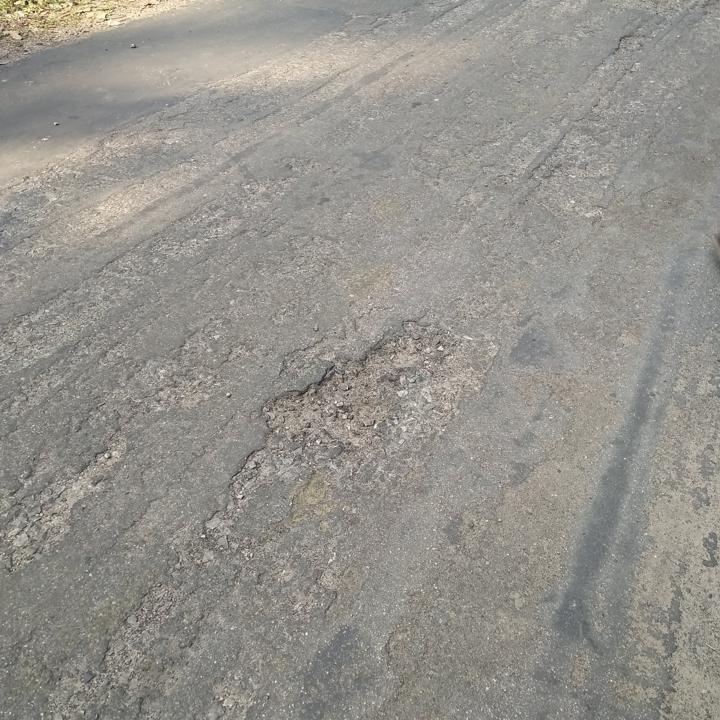pothole: (254, 330, 430, 453)
